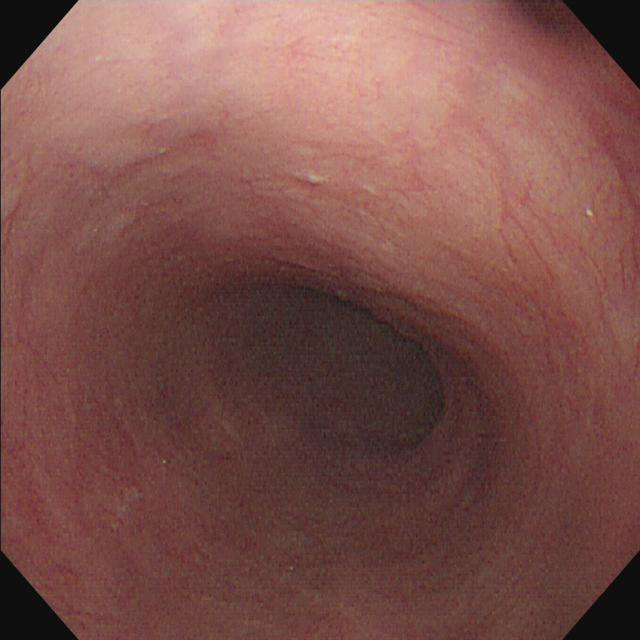E: (244, 283, 447, 453)
